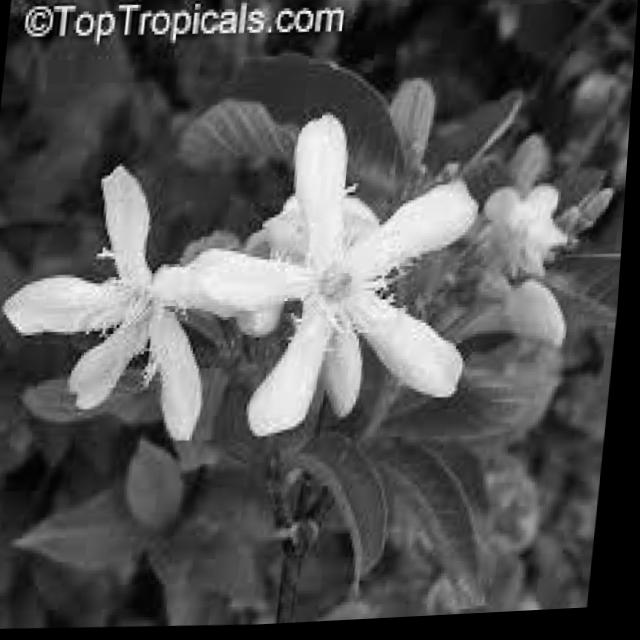Flower: (175, 94, 512, 453), (3, 160, 303, 471)
